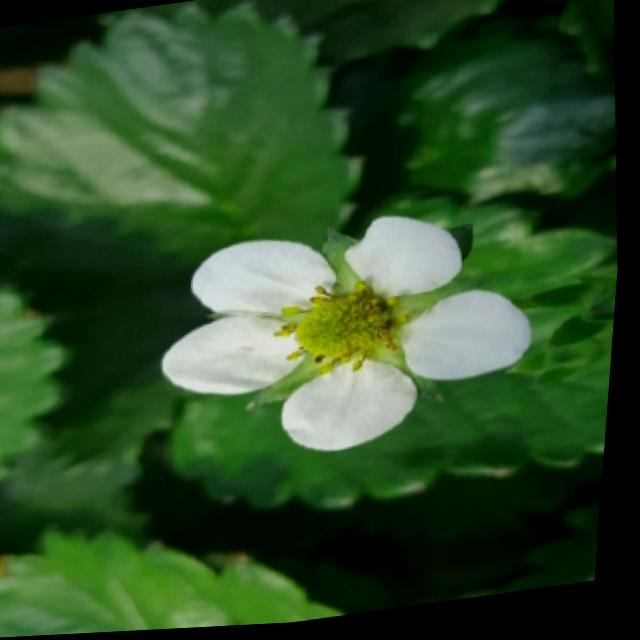Blossom Blight: (275, 278, 413, 386)
